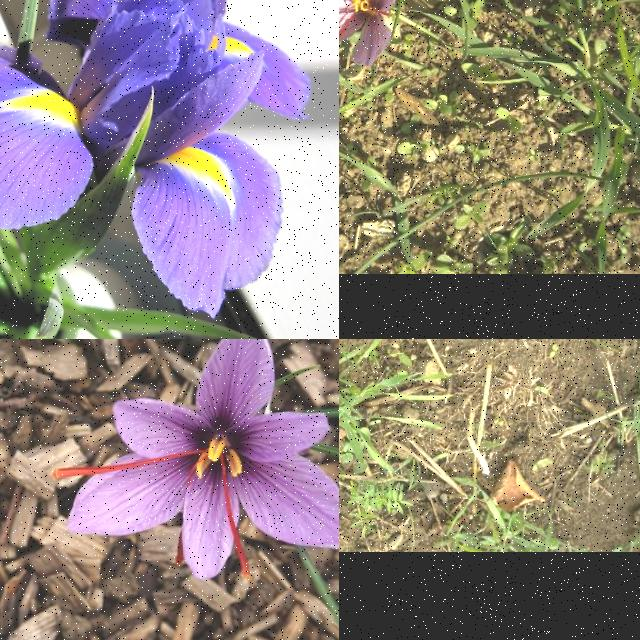flower: (53, 339, 339, 579), (339, 0, 420, 66)
